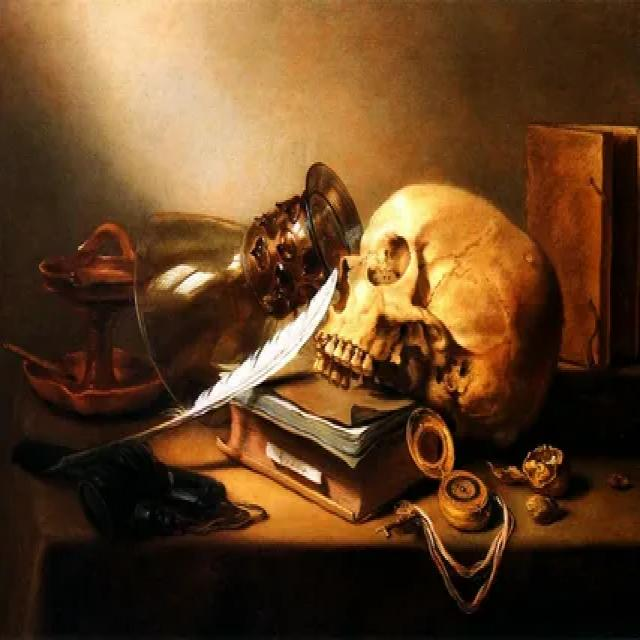skull: (319, 169, 567, 425)
